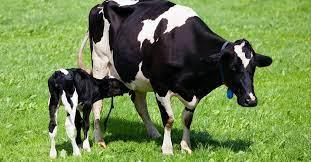cow: (78, 0, 273, 154), (48, 68, 130, 159)
